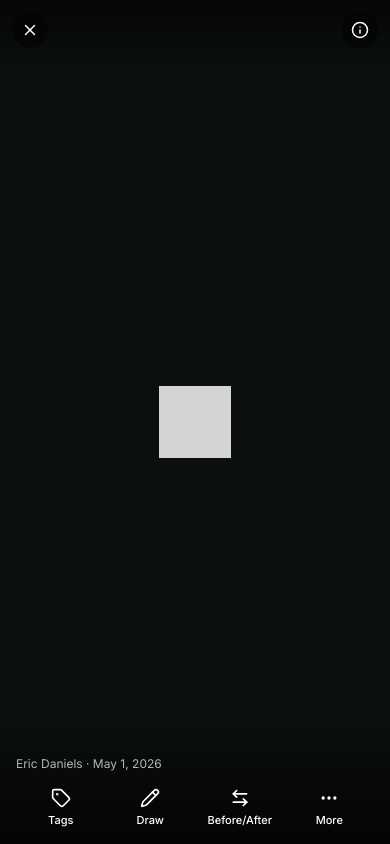
Test: PhotoViewer — phone layout › raises a details panel from the info (ⓘ) button with the file size
This screenshot has width=390, height=844.
Click the button named "details".
click(360, 30)  # box [342,12,378,48]
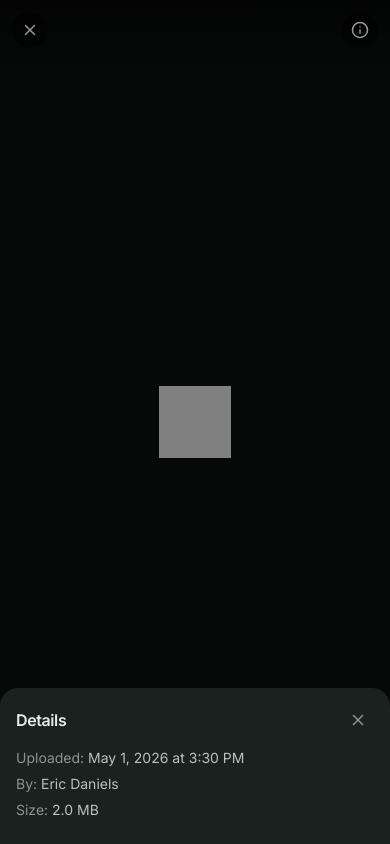
expect the text "Size: 2.0 MB" is shown: met, box [16,801,99,818]
